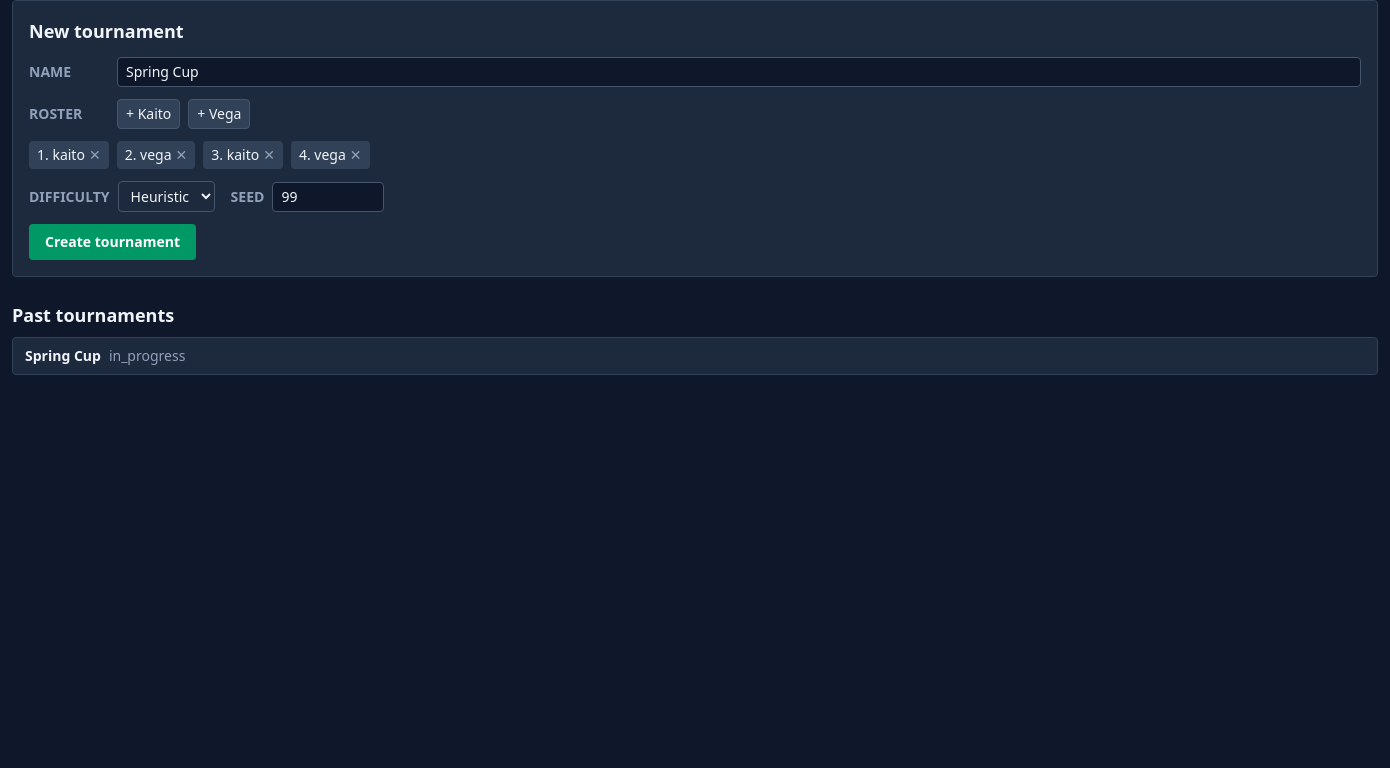
Test: TournamentScreen › opens a past tournament when its row is clicked
What coordinates should you click on to do the following:
click the button with test id "tournament-summary"
I would click on:
 (63, 356)
Its box is [12,337,1378,375].
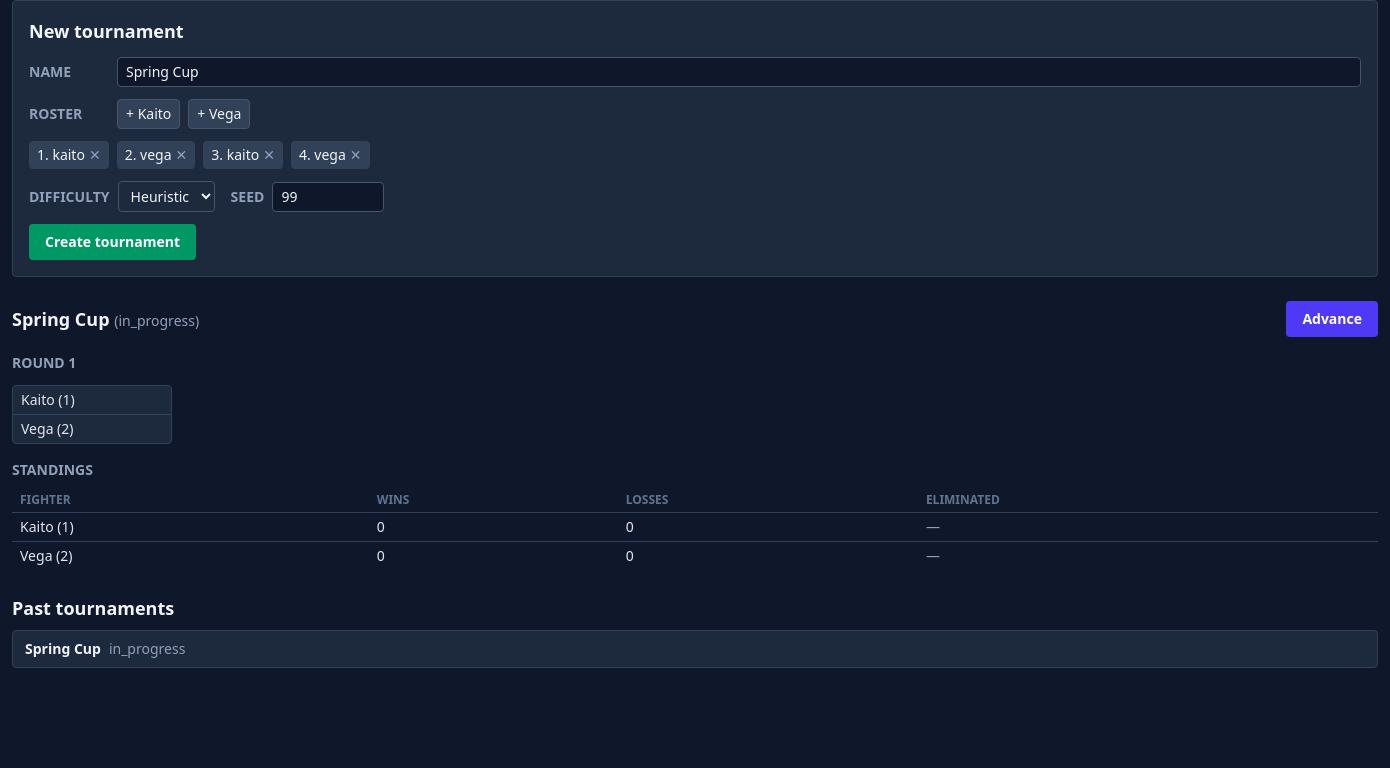
expect the element with test id "bracket" is shown: met, box [12,353,172,444]
